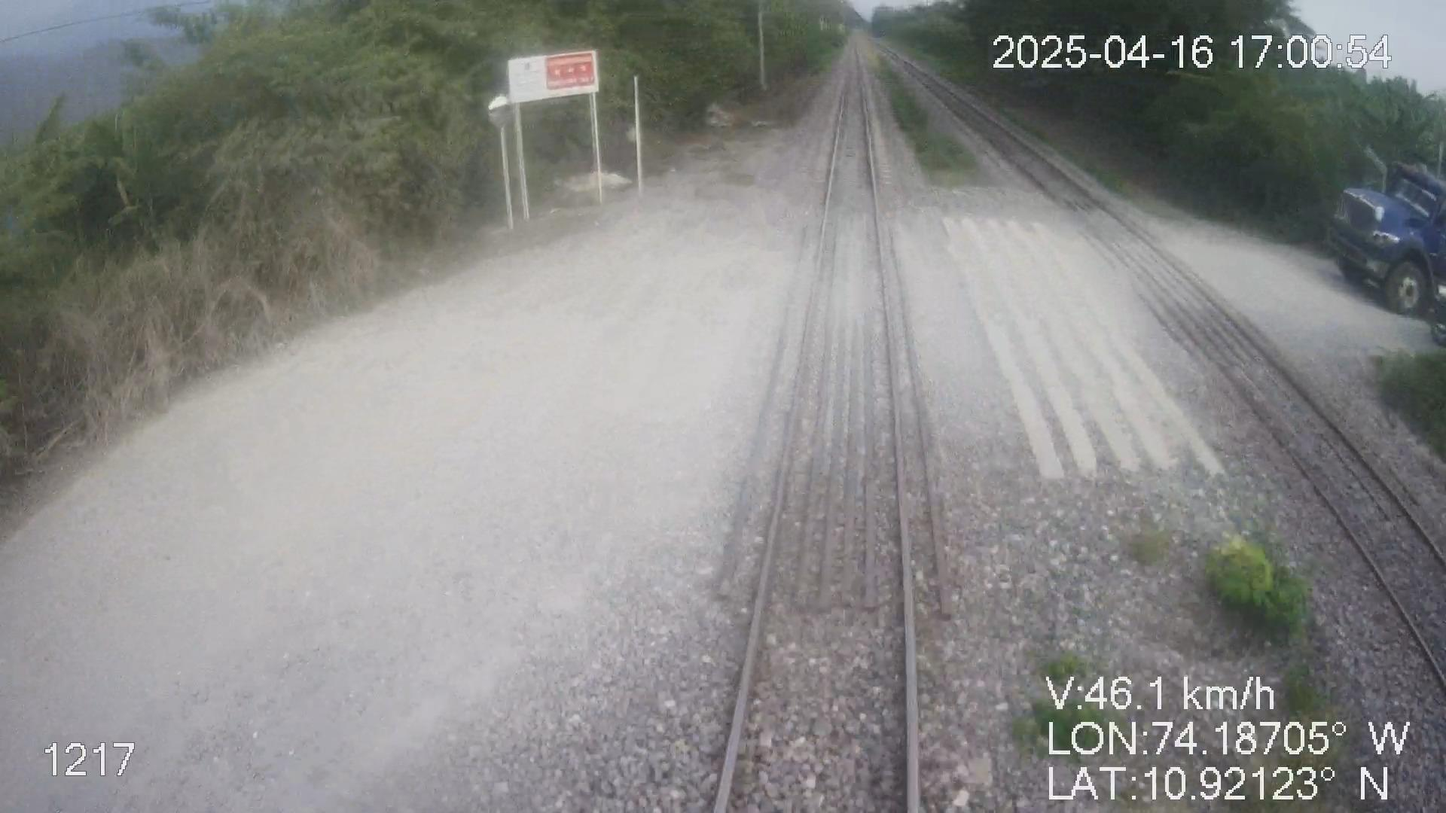Pasto: (0, 0, 827, 495)
Senal: (508, 51, 599, 105)
